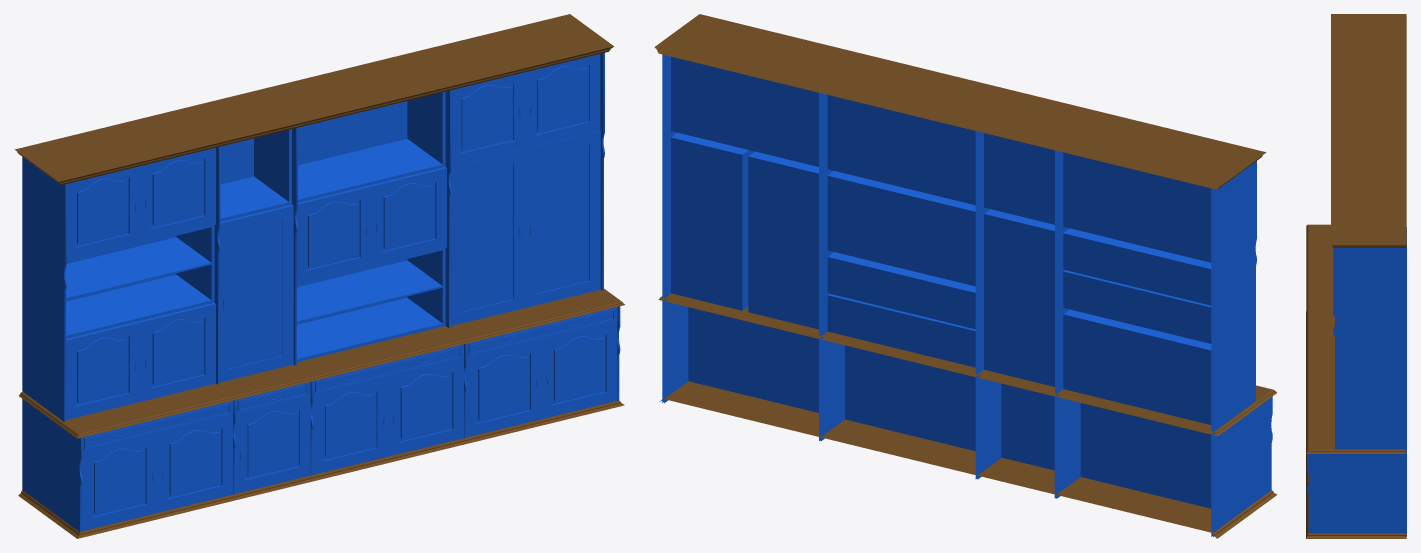
Rendered from ArmarioComedor_Low.fbx.
3 views of the same model, side by side, from view 1: azimuth 30°, elevation 25°; view 2: azimuth 150°, elevation 25°; view 3: azimuth 270°, elevation 25° (orthographic). The views are drawn at different scales.
Visible parts, largest first — view 1: BaseSuperior_Low, Cristal_Low (×2), BaseMitad_Low, Estanteria_Low, Estanteria_02_Low, Base_07_Low, SeparadorSuperior_High, Marco_Low (×2), Cristal_02_Low, Puerta_Der_04_Low, Puerta_Der_06_Low, Puerta_Der_03_Low (+24 smaller); view 2: BaseSuperior_Low, BaseCristalera_Low (×2), Base_02_Low (×2), Base_Low (×2), BaseInferior_Low, BaseCristalera_02_Low, Base_04_Low, Estanteria_02_Low, Estanteria_Low, Base_06_Low, Base_07_Low, Base_05_Low (+13 smaller); view 3: BaseSuperior_Low, SeparadorSuperior_05_High, SeparadorInferior_05_High, BaseMitad_Low, BaseInferior_Low.
Boxes of the visible parts, x1,y1,x2,y2 form: BaseSuperior_Low: (14,14,613,185); Cristal_Low (×2): (228,161,513,368); BaseMitad_Low: (19,289,624,438); Estanteria_Low: (65,225,214,338); Estanteria_02_Low: (297,248,445,361); Base_07_Low: (298,91,445,202); SeparadorSuperior_High: (22,157,66,421); Marco_Low (×2): (219,149,524,382); Cristal_02_Low: (535,143,589,293); Puerta_Der_04_Low: (138,303,215,401); Puerta_Der_06_Low: (369,167,446,265); Puerta_Der_03_Low: (541,321,617,418); BaseSuperior_Low: (654,14,1266,189); BaseCristalera_Low (×2): (748,151,1054,386); Base_02_Low (×2): (845,133,1054,451); Base_Low (×2): (1001,383,1211,508); BaseInferior_Low: (659,381,1277,538); BaseCristalera_02_Low: (671,132,754,310); Base_04_Low: (1063,309,1211,424); Estanteria_02_Low: (827,252,975,367); Estanteria_Low: (1063,228,1211,343); Base_06_Low: (827,171,975,286); Base_07_Low: (827,95,975,205); Base_05_Low: (1063,152,1211,262); BaseSuperior_Low: (1331,14,1406,247); SeparadorSuperior_05_High: (1333,247,1406,449); SeparadorInferior_05_High: (1307,450,1406,536); BaseMitad_Low: (1306,224,1405,453); BaseInferior_Low: (1306,311,1406,538).
Bounding box in the file's own units: 366 × 218 × 67.43.
